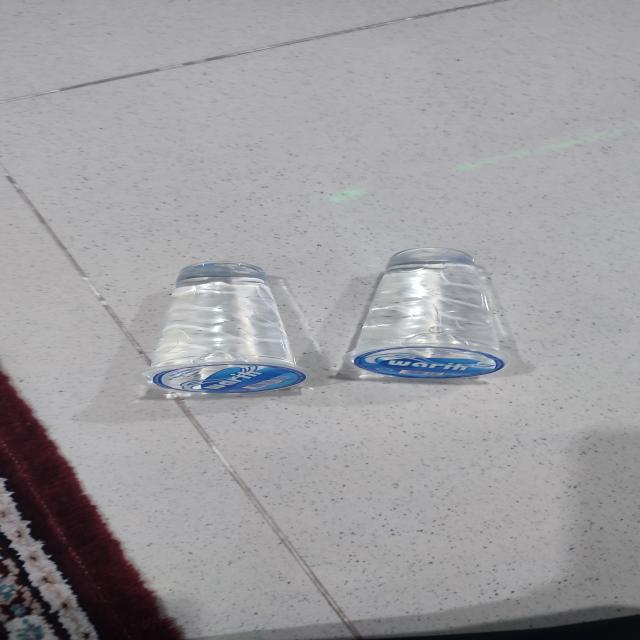air gelas: (138, 260, 313, 400), (340, 245, 510, 385)
